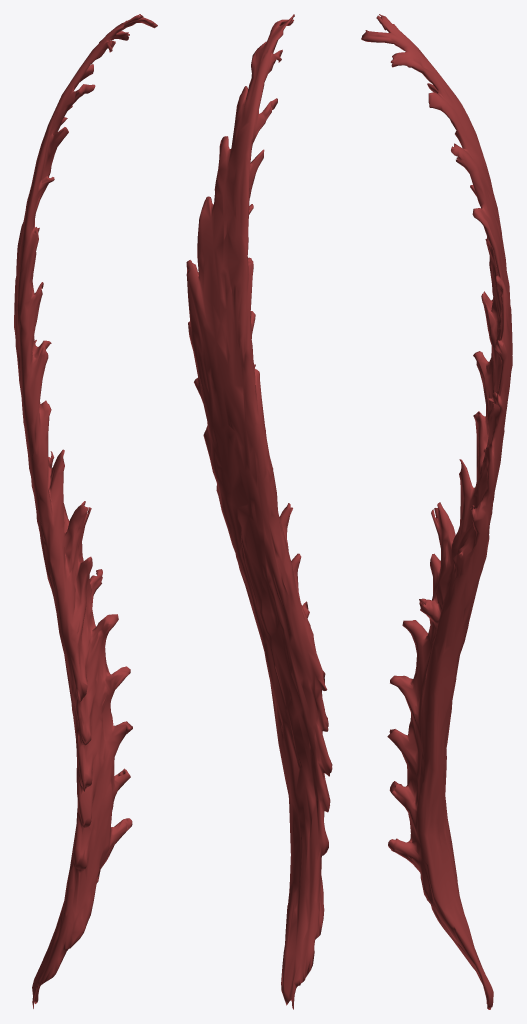
The model's file is longissimus-thoracis-muscle-l.glb.
The picture shows the model from 3 angles, left to right: view 1: azimuth 90°, elevation 25°; view 2: azimuth 150°, elevation 25°; view 3: azimuth 270°, elevation 25°; orthographic projection. The views are drawn at different scales.
Parts seen in each view (by area): view 1: Longissimus thoracis muscle.l; view 2: Longissimus thoracis muscle.l; view 3: Longissimus thoracis muscle.l.
Part boxes in pixels (x1,y1,x2,y2): Longissimus thoracis muscle.l: (14,14,157,1008); Longissimus thoracis muscle.l: (186,14,332,1009); Longissimus thoracis muscle.l: (361,14,512,1009).
Size of the model in its own units: 0.0721 by 0.5482 by 0.0738.
